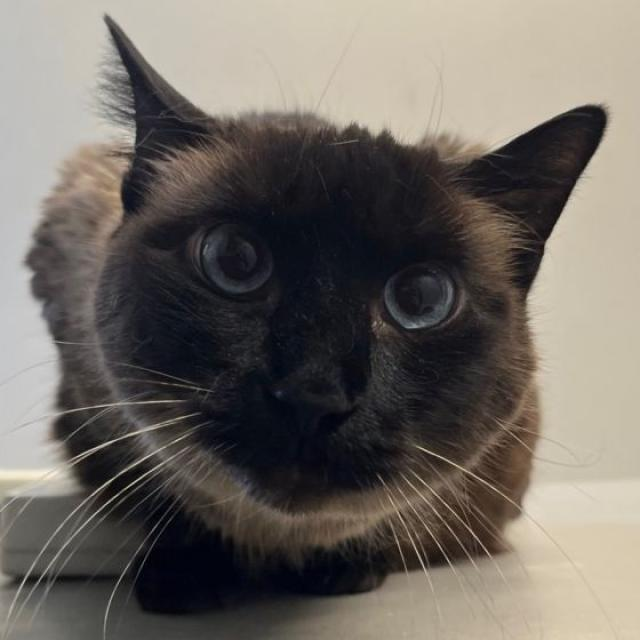siamese_cat: (78, 16, 613, 561)
